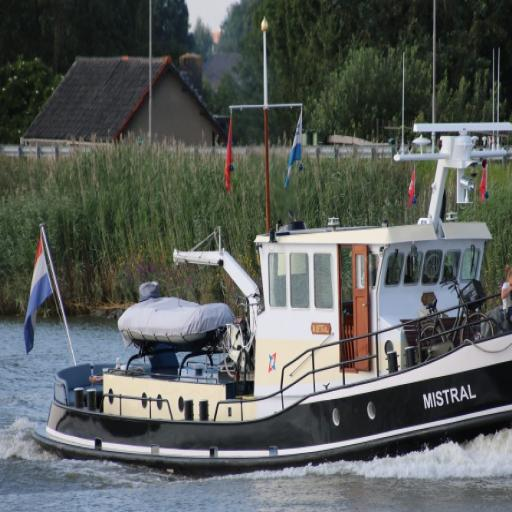tugboat: (21, 116, 512, 493)
